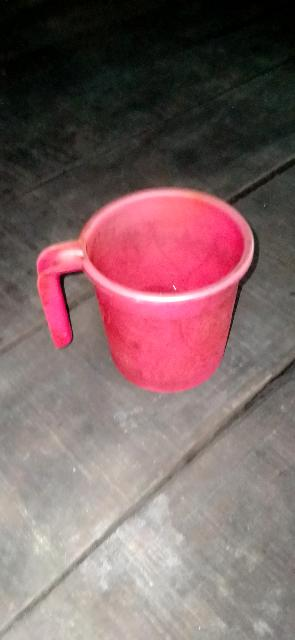hardplastic: (93, 204, 253, 376)
